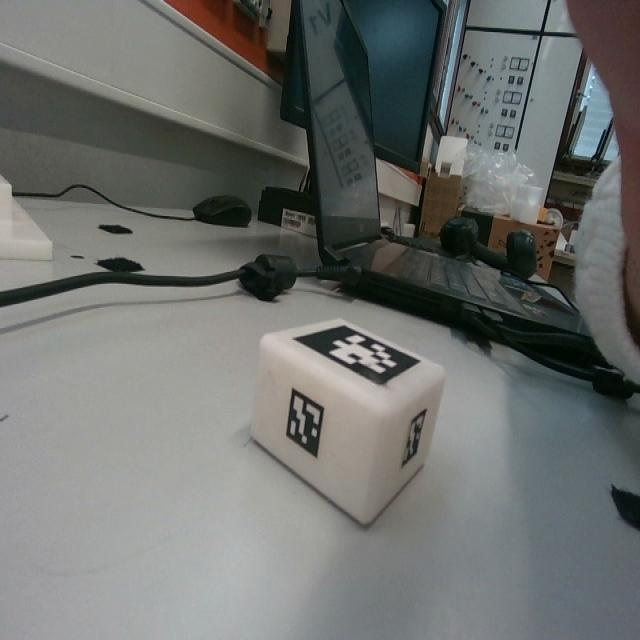Cube: (252, 316, 444, 529)
